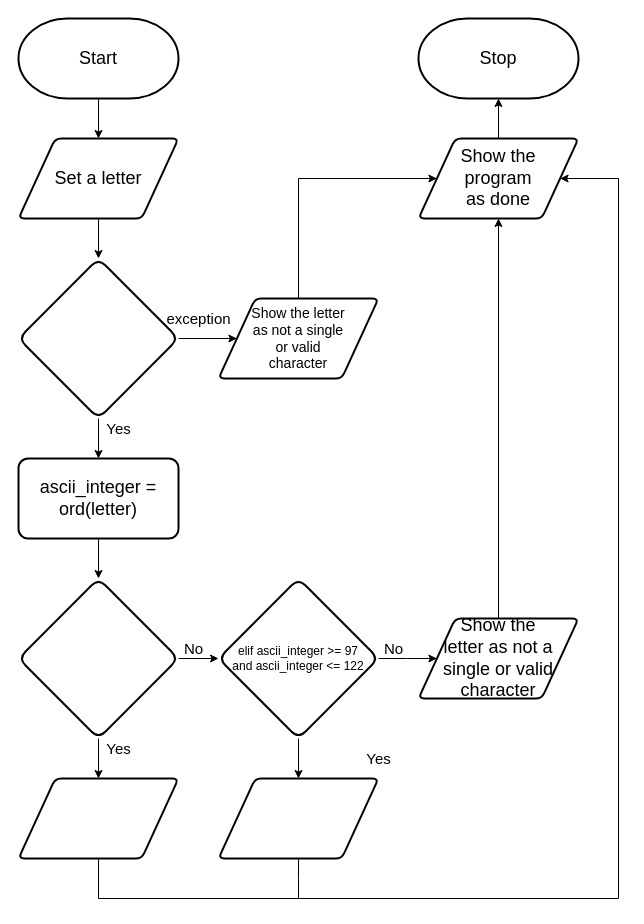
Some shapes in this 644 by 924 pixel diagram are drawn without their labels. Here are the shapes that lost their labels. From the top down, the centre of each, then its label:
the point at 98,338: try
the point at 98,658: if ascii_integer >= 65 and ascii_integer <= 90
the point at 98,818: Show the letter as a capital letter
the point at 298,818: Show the letter as not a capital letter
